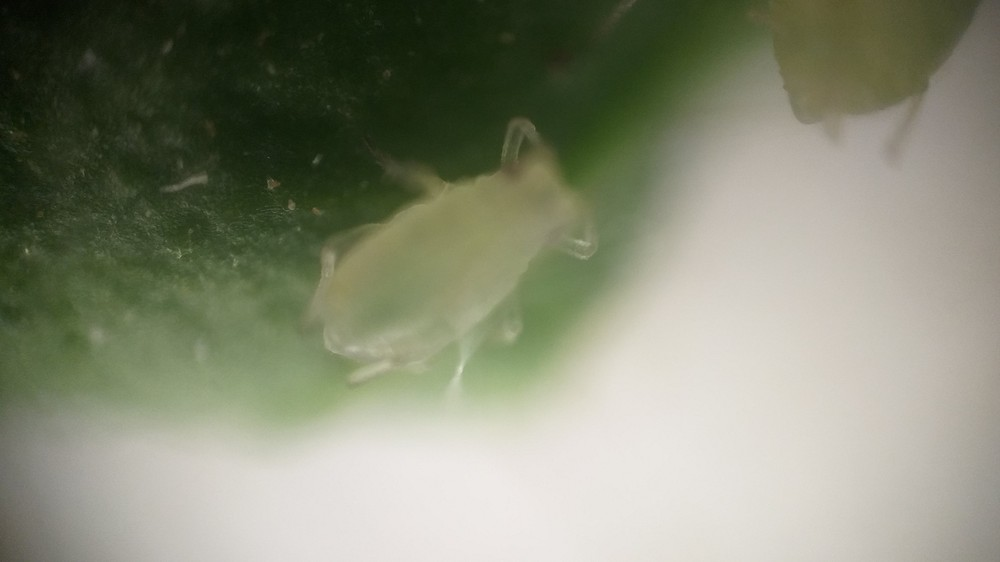Pulgon: (272, 109, 618, 409)
